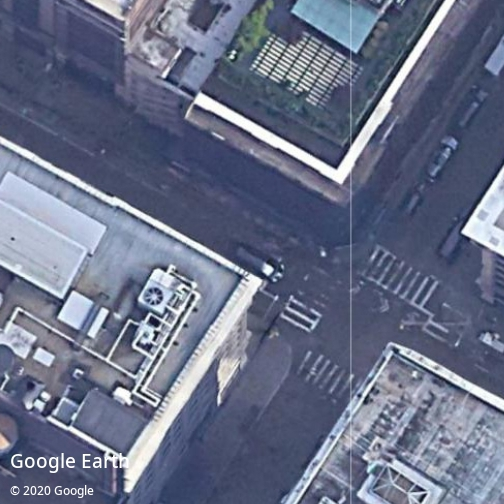Vent: (143, 286, 163, 306)
